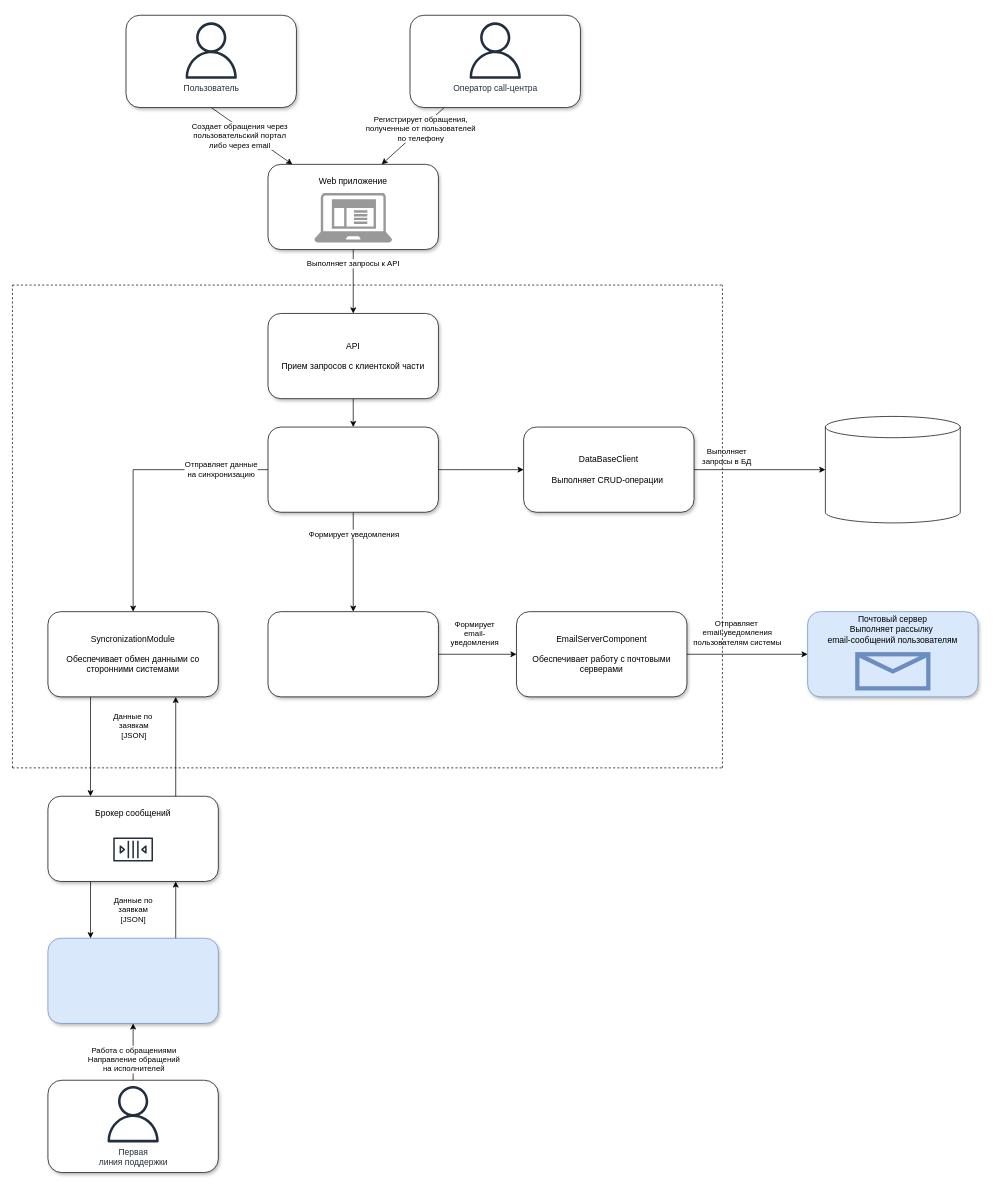
Image size: 995x1190. Some labels were removed from this diagram. The centre of each missing label's shape, as x and y in pixels:
Domain Logic Бизнес-логика: the point at 353,470
NotificationComponent Обеспечивает отправку уведомлений пользователям системы: the point at 353,655
Service Desk: the point at 133,981
БД Хранит данные по заявкам, сервисам: the point at 892,469
